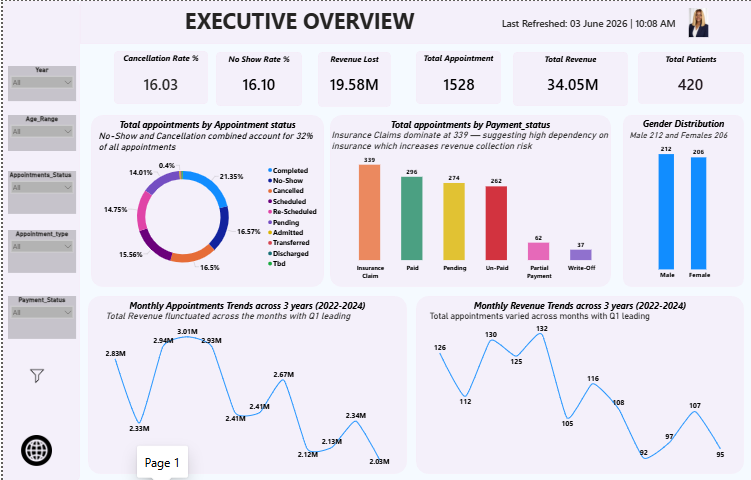

The page's visual inventory and layout, read from the dashboard file:
{"tool":"powerbi","page":{"name":"Page 1","canvas":[2500,1600],"ordinal":0},"visuals":[{"type":"cardVisual","fields":{"Data":["Measures table.Total Patients"]},"box":[2186.7,226.7,210,96.7],"z":0},{"type":"shape","box":[256.7,0,2243.3,143.3],"z":1000},{"type":"shape","box":[1376.7,166.7,283.3,176.7],"z":2000},{"type":"shape","box":[1050,170,243.3,183.3],"z":3000},{"type":"shape","box":[710,170,286.7,180],"z":4000},{"type":"shape","box":[1090,380,936.7,573.3],"z":5000},{"type":"shape","box":[1376.7,983.3,1093.3,593.3],"z":6000},{"type":"shape","box":[370,166.7,313.3,176.7],"z":7000},{"type":"shape","box":[283.3,983.3,1063.3,593.3],"z":8000},{"type":"shape","box":[2066.7,380,403.3,573.3],"z":9000},{"type":"shape","box":[2116.7,170,353.3,173.3],"z":10000},{"type":"shape","box":[1700,170,383.3,180],"z":11000},{"type":"shape","box":[293.3,380,776.7,573.3],"z":12000},{"type":"cardVisual","fields":{"Data":["Measures table.Total appointments"]},"box":[1416.7,220,206.7,110],"z":13000},{"type":"clusteredColumnChart","title":"Insurance Claims dominate at 339 — suggesting high dependency on insurance which increases revenue collection risk","fields":{"Category":["New healthcare.Payment_Status"],"Y":["Measures table.Total appointments"]},"box":[1090,430,938,506.7],"z":14000},{"type":"cardVisual","fields":{"Data":["Measures table.Revenue Lost"]},"box":[1060,226.7,223.3,96.7],"z":15000},{"type":"donutChart","title":"No-Show and Cancellation combined account for 32% of all appointments","fields":{"Category":["New healthcare.Appointment_Status"],"Y":["Measures table.Total appointments"]},"box":[313.3,433.3,746.7,503.3],"z":16000},{"type":"cardVisual","fields":{"Data":["Measures table.No Show Rate 1"]},"box":[760,226.7,186.7,96.7],"z":17000},{"type":"clusteredColumnChart","title":"Male 212 and Females 206","fields":{"Category":["New healthcare.Patient_Gender"],"Y":["Measures table.Total Patients"]},"box":[2083.3,430,370,506.7],"z":18000},{"type":"lineChart","title":"Total Revenue flunctuated across the months with Q1 leading","fields":{"Category":["Date.Month"],"Y":["Measures table.Total Revenue"]},"box":[336.7,1033.3,956.7,516.7],"z":19000},{"type":"cardVisual","fields":{"Data":["Measures table.Total Revenue"]},"box":[1773.3,226.7,253.3,96.7],"z":20000},{"type":"lineChart","title":"Total appointments varied across months with Q1 leading","fields":{"Category":["Date.Month"],"Y":["Measures table.Total appointments"]},"box":[1416.7,1033.3,1013.3,516.7],"z":21000},{"type":"cardVisual","fields":{"Data":["Measures table.Cancellation rate"]},"box":[410,216.7,233.3,116.7],"z":22000},{"type":"shape","box":[0,0,256.7,1600],"z":23000},{"type":"slicer","title":"Year","fields":{"Values":["Date.Year"]},"box":[16.7,216.7,226.7,116.7],"z":24000},{"type":"slicer","title":"Age_Range","fields":{"Values":["New healthcare.Age_Range"]},"box":[16.7,380,226.7,120],"z":25000},{"type":"slicer","title":"Appointments_Status","fields":{"Values":["New healthcare.Appointment_Status"]},"box":[16.7,566.7,226.7,143.3],"z":26000},{"type":"slicer","title":"Appointment_type","fields":{"Values":["New healthcare.Appointment_type"]},"box":[16.7,763.3,226.7,143.3],"z":27000},{"type":"slicer","title":"Payment_Status","fields":{"Values":["New healthcare.Payment_Status"]},"box":[16.7,983.3,226.7,143.3],"z":28000},{"type":"image","box":[60,1206.7,106.7,86.7],"z":29000},{"type":"image","box":[53.3,1446.7,116.7,103.3],"z":30000},{"type":"cardVisual","fields":{"Data":["Measures table.Last Refreshed"]},"box":[1633.3,33.3,660,76.7],"z":31000},{"type":"image","box":[2270,23.3,96.7,96.7],"z":32000},{"type":"textbox","box":[436.7,10,1123.3,126.7],"z":33000}]}

Visuals, with their boxes in screenshot pixels (x1, y1, x2, y2), scaled from the page's 2500x1600 canvas onto the 751x480 screenshot:
cardVisual - Measures table.Total Patients: BBox(657, 68, 720, 97)
shape: BBox(77, 0, 750, 43)
shape: BBox(414, 50, 499, 103)
shape: BBox(315, 51, 389, 106)
shape: BBox(213, 51, 299, 105)
shape: BBox(327, 114, 609, 286)
shape: BBox(414, 295, 742, 473)
shape: BBox(111, 50, 205, 103)
shape: BBox(85, 295, 405, 473)
shape: BBox(621, 114, 742, 286)
shape: BBox(636, 51, 742, 103)
shape: BBox(511, 51, 626, 105)
shape: BBox(88, 114, 321, 286)
cardVisual - Measures table.Total appointments: BBox(426, 66, 488, 99)
"Insurance Claims dominate at 339 — suggesting high dependency on insurance which increases revenue collection risk" clusteredColumnChart: BBox(327, 129, 609, 281)
cardVisual - Measures table.Revenue Lost: BBox(318, 68, 386, 97)
"No-Show and Cancellation combined account for 32% of all appointments" donutChart: BBox(94, 130, 318, 281)
cardVisual - Measures table.No Show Rate 1: BBox(228, 68, 284, 97)
"Male 212 and Females 206" clusteredColumnChart: BBox(626, 129, 737, 281)
"Total Revenue flunctuated across the months with Q1 leading" lineChart: BBox(101, 310, 389, 465)
cardVisual - Measures table.Total Revenue: BBox(533, 68, 609, 97)
"Total appointments varied across months with Q1 leading" lineChart: BBox(426, 310, 730, 465)
cardVisual - Measures table.Cancellation rate: BBox(123, 65, 193, 100)
shape: BBox(0, 0, 77, 479)
"Year" slicer: BBox(5, 65, 73, 100)
"Age_Range" slicer: BBox(5, 114, 73, 150)
"Appointments_Status" slicer: BBox(5, 170, 73, 213)
"Appointment_type" slicer: BBox(5, 229, 73, 272)
"Payment_Status" slicer: BBox(5, 295, 73, 338)
image: BBox(18, 362, 50, 388)
image: BBox(16, 434, 51, 465)
cardVisual - Measures table.Last Refreshed: BBox(491, 10, 689, 33)
image: BBox(682, 7, 711, 36)
textbox: BBox(131, 3, 469, 41)
